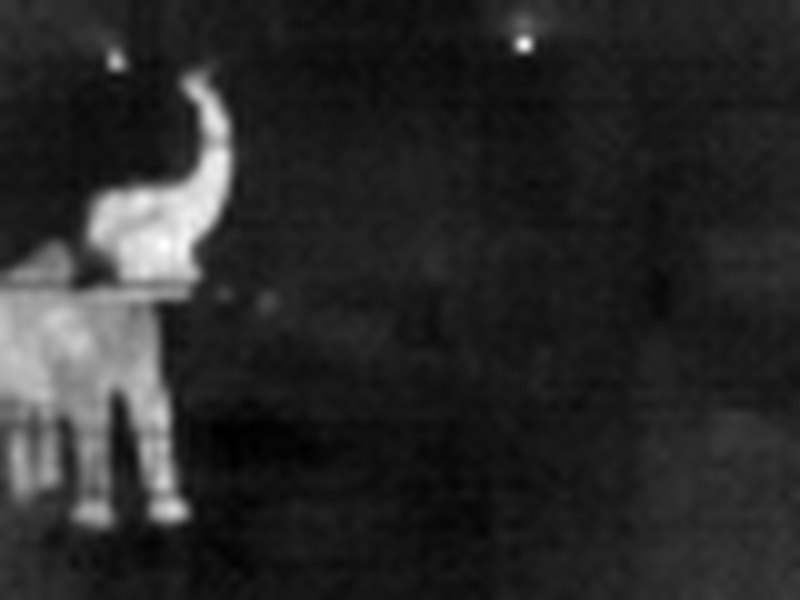elephant: (1, 58, 250, 550)
